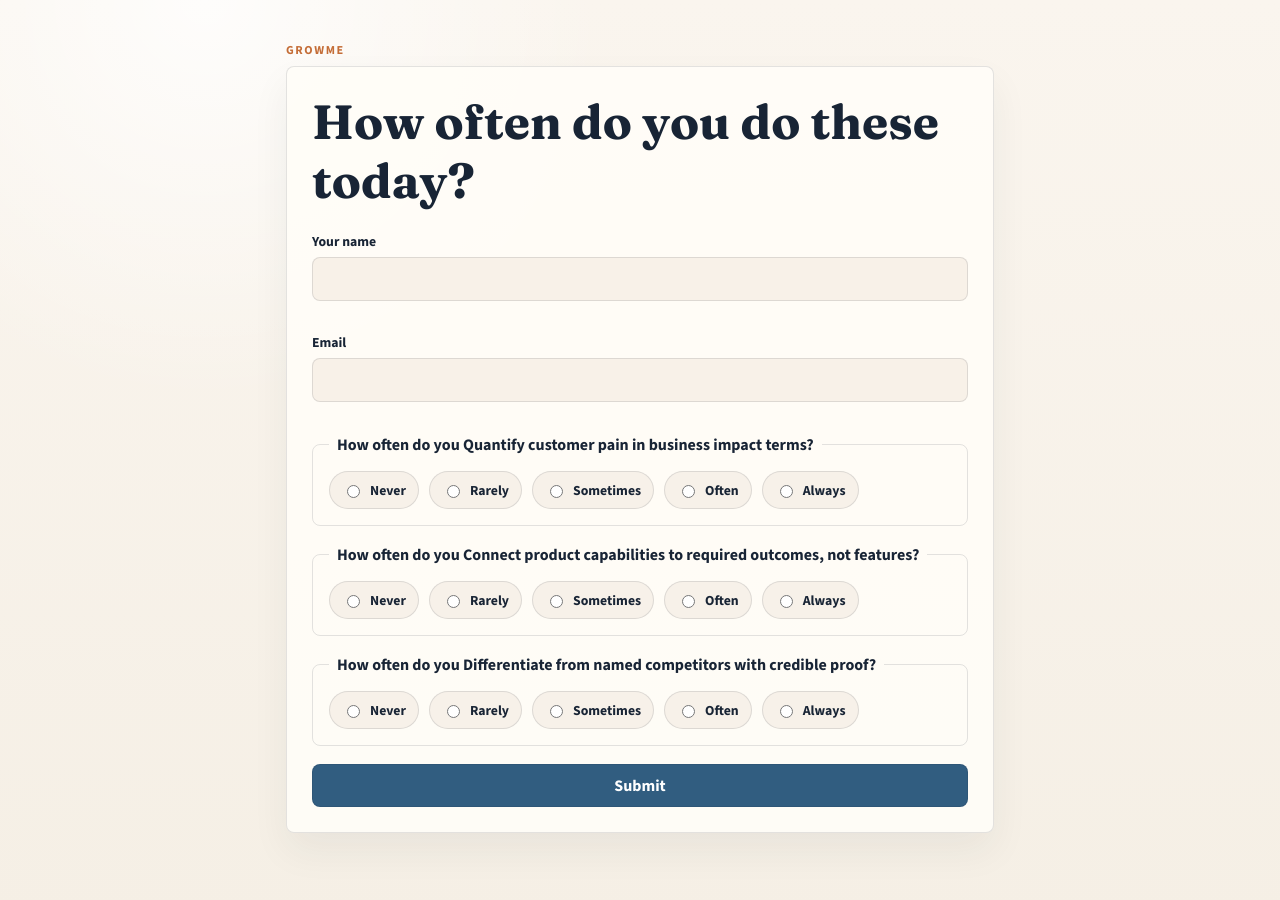
it: GrowMe React app › learner pre route submits frequency answers
Check: the heading "How often do you do these today?" is shown, box [312,92,968,210]
In the field labelled "Your name": (640, 279) [312,257,968,301], type "Sam"
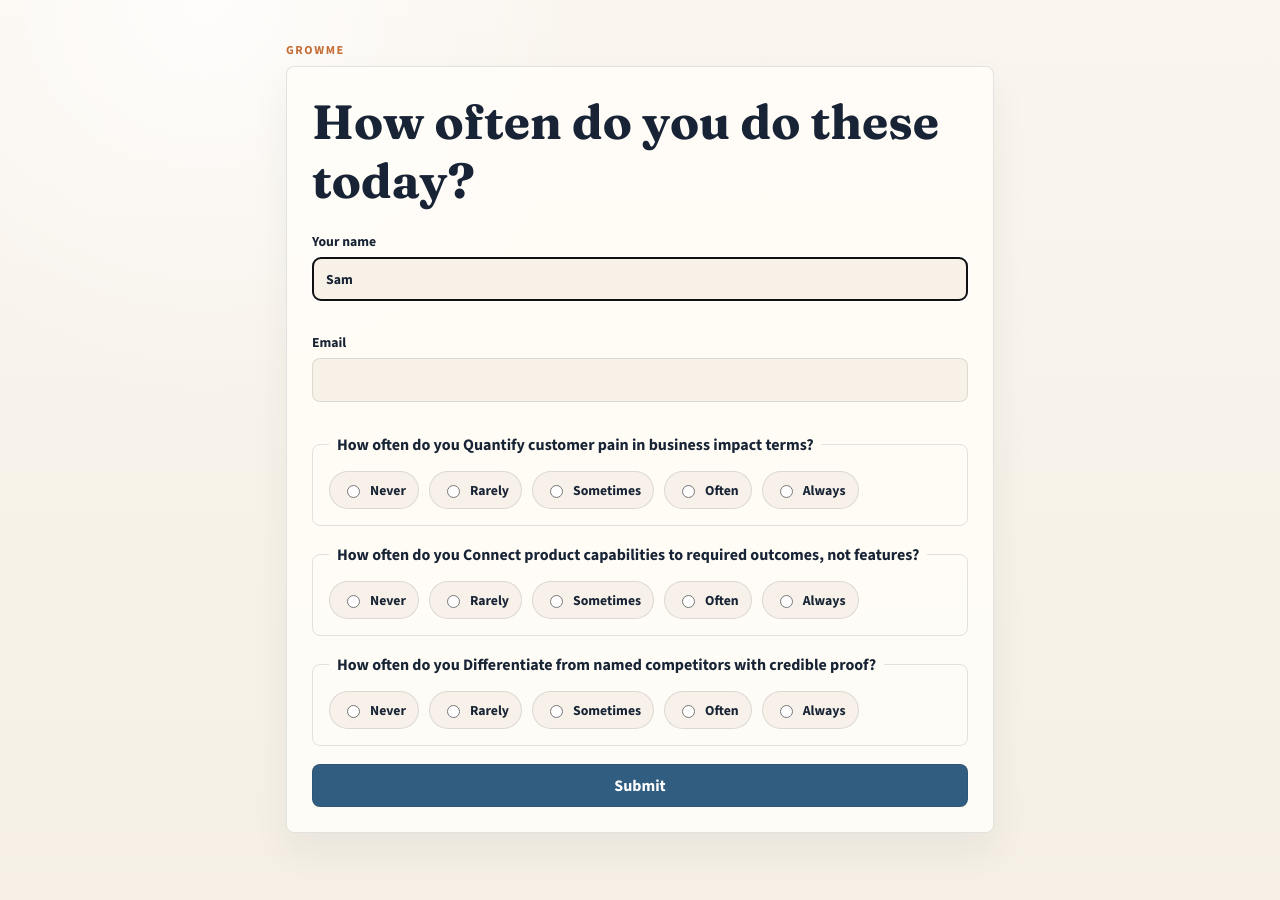
In the field labelled "Email": (640, 380) [312,358,968,402], type "sam@example.com"
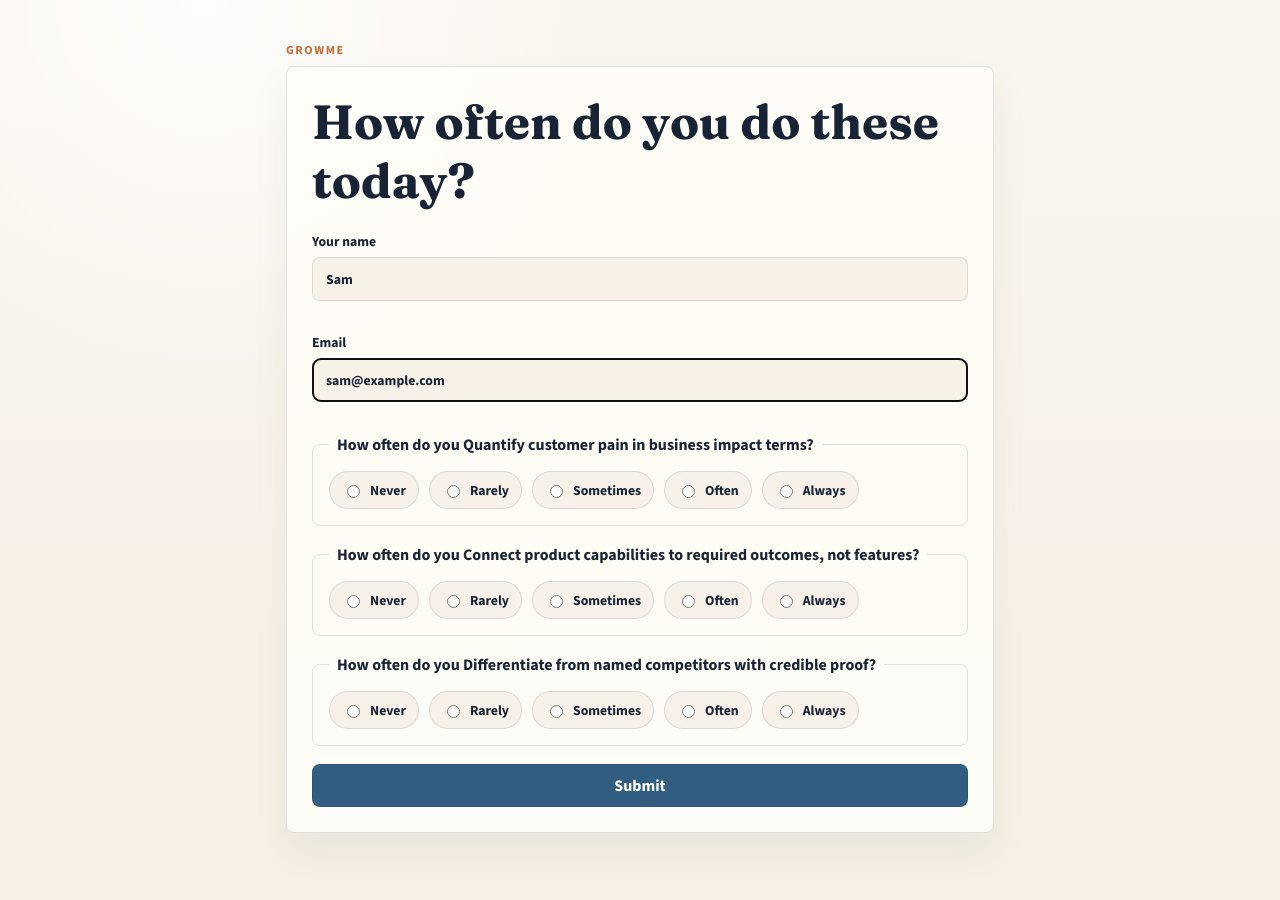
Click the 1st radio button labelled "Often": click(689, 492) [682,484,695,499]
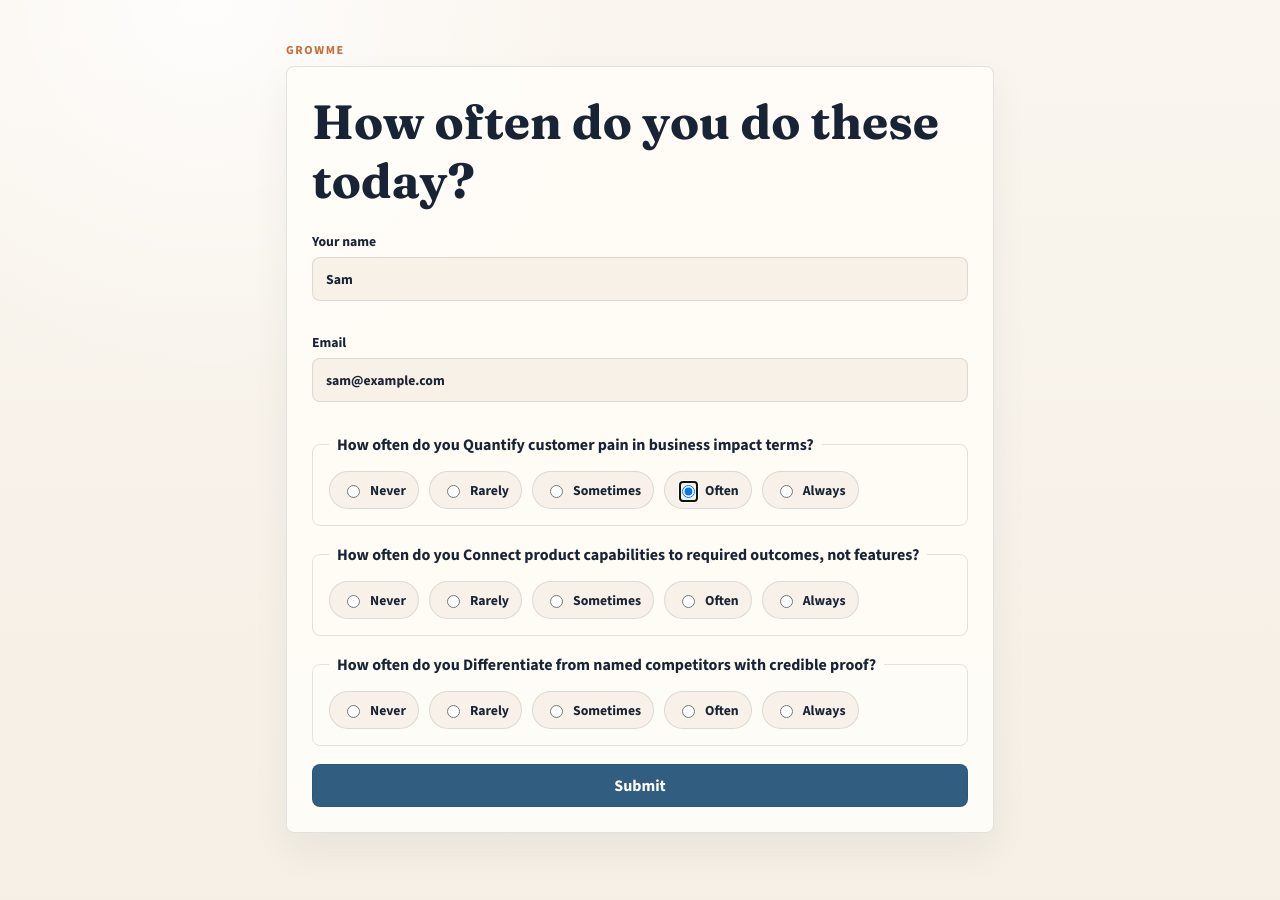
Click the 2nd radio button labelled "Often": click(689, 602) [682,594,695,609]
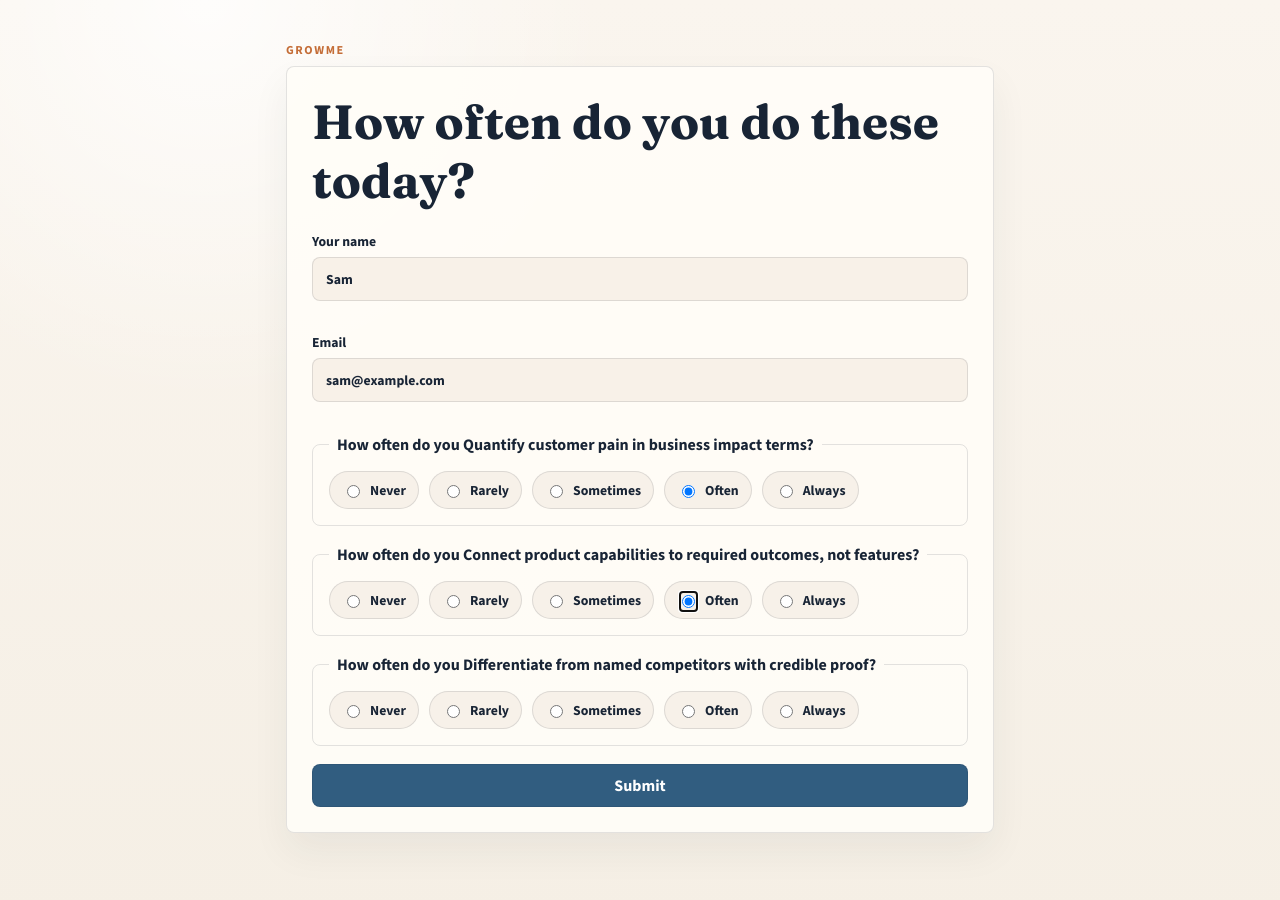
Click the 3rd radio button labelled "Often": click(689, 712) [682,704,695,719]
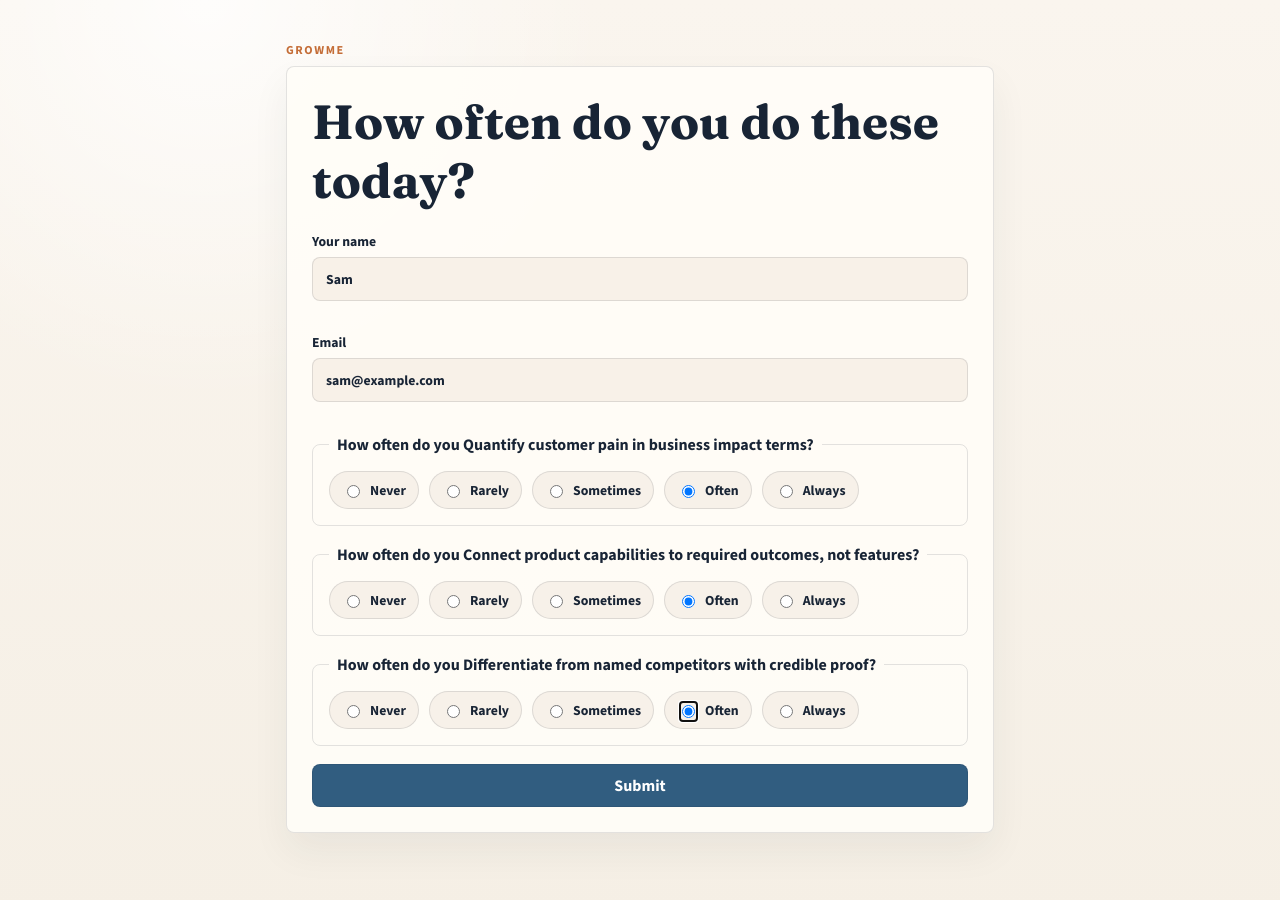
Click the button "Submit": click(640, 786) [312,764,968,807]
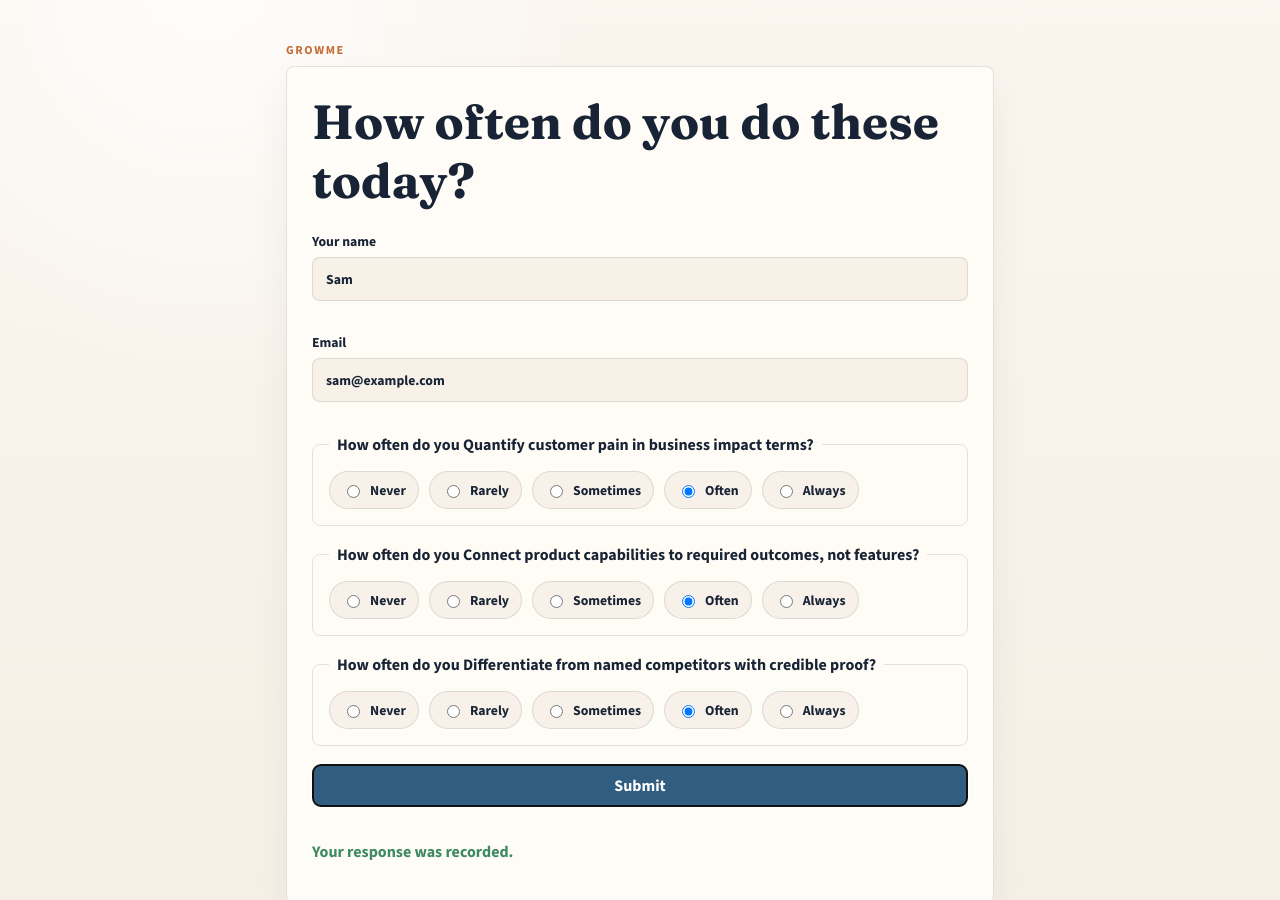
Check: the text "Your response was recorded." is shown, box [312,841,513,862]
